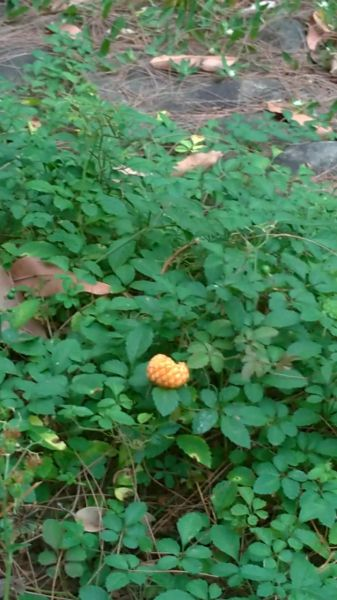eggs: (141, 350, 194, 393)
